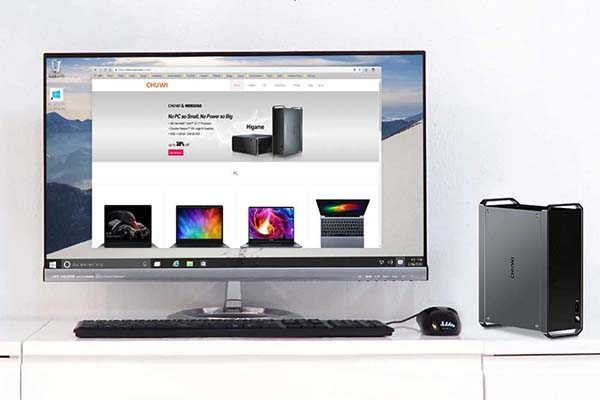Ordinateur: (71, 59, 274, 115)
